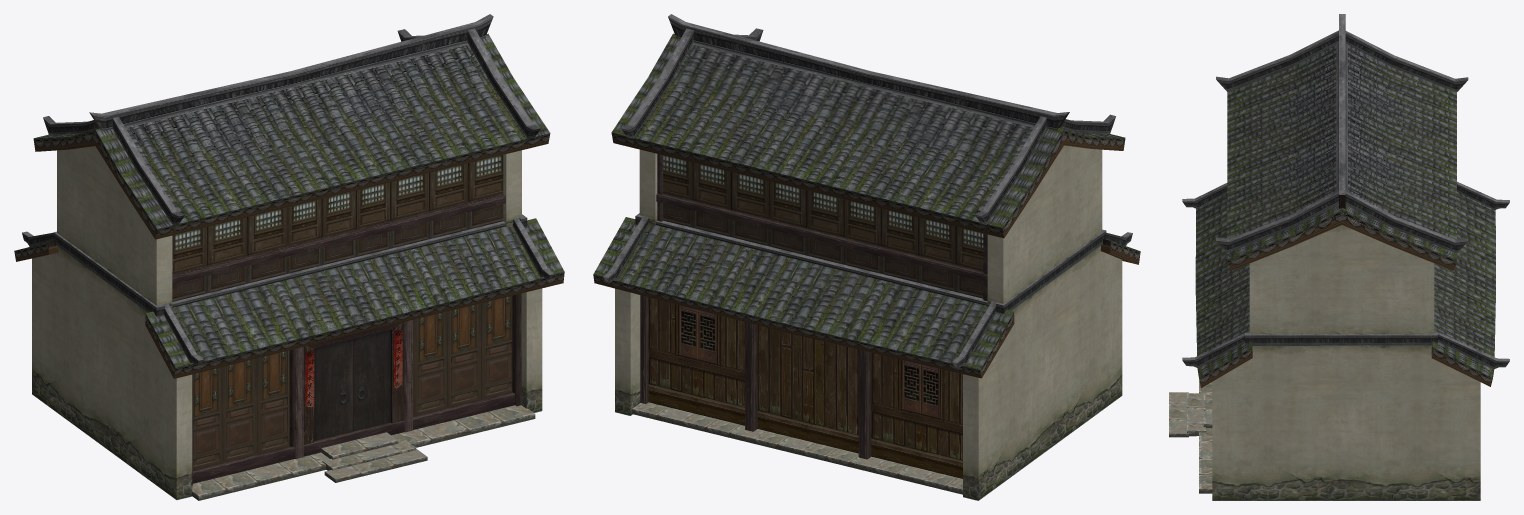
The model's file is minju_dw_23.fbx.
3 renders of one model, left to right at view 1: azimuth 30°, elevation 25°; view 2: azimuth 150°, elevation 25°; view 3: azimuth 270°, elevation 25°, orthographic. The views are drawn at different scales.
Parts seen in each view (by area): view 1: minju_dw_23; view 2: minju_dw_23; view 3: minju_dw_23.
Boxes of the visible parts, x1,y1,x2,y2 form: minju_dw_23: (14,14,564,500); minju_dw_23: (593,14,1140,500); minju_dw_23: (1169,14,1509,500).
Size of what is drawn, in the model's own units: 1208 by 978 by 960.
